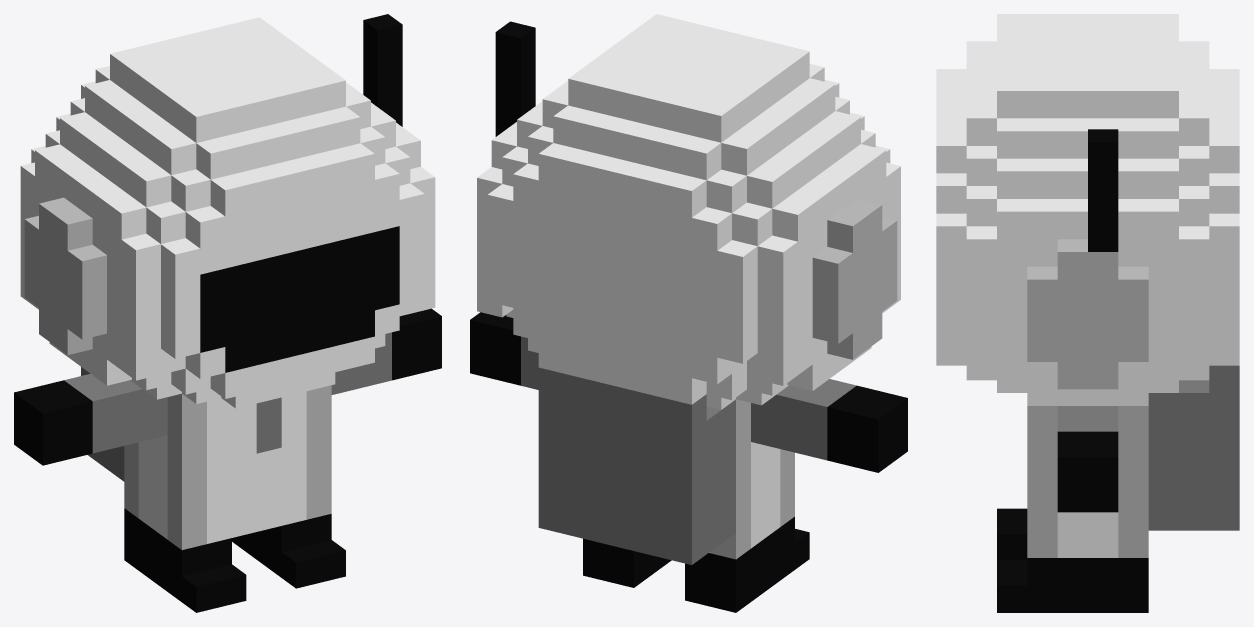
Rendered from Damon2.obj.
3 views of the same model, side by side, from view 1: azimuth 30°, elevation 25°; view 2: azimuth 150°, elevation 25°; view 3: azimuth 270°, elevation 25° (orthographic). The views are drawn at different scales.
Size of the model in its own units: 16 by 19 by 10.
Materials: 1 (1 with a texture image).
